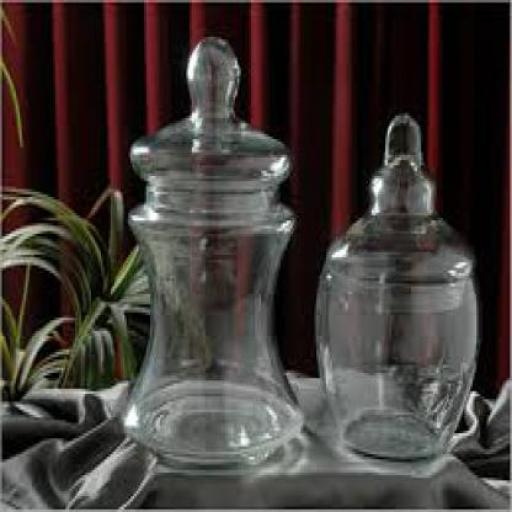glass: (118, 34, 304, 467), (312, 110, 478, 460)
